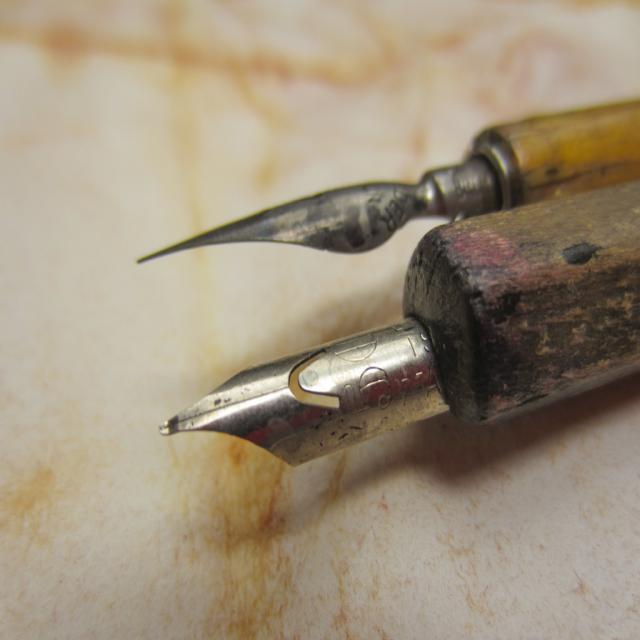pen: (160, 179, 640, 468), (132, 97, 640, 262)
